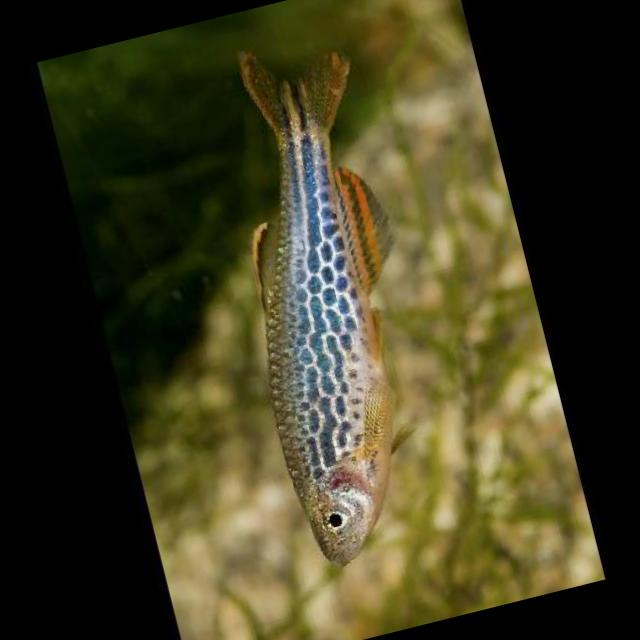ZebraFish: (178, 24, 475, 578)
